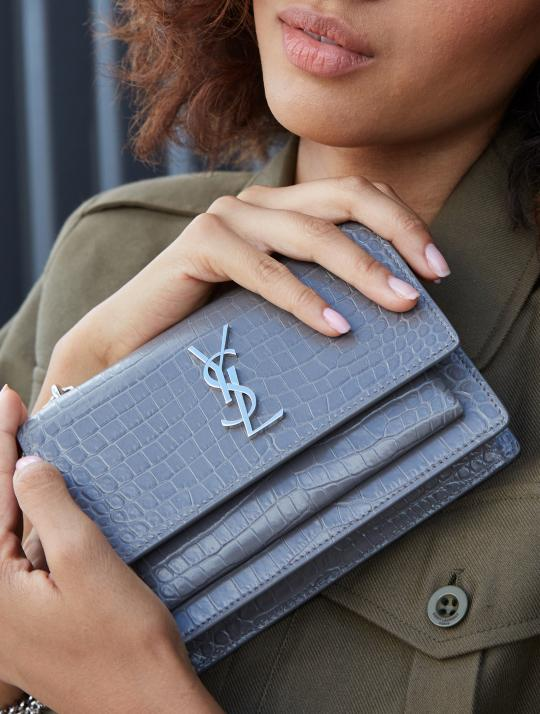YVES-SAINT-LAURENT: (188, 324, 285, 440)
